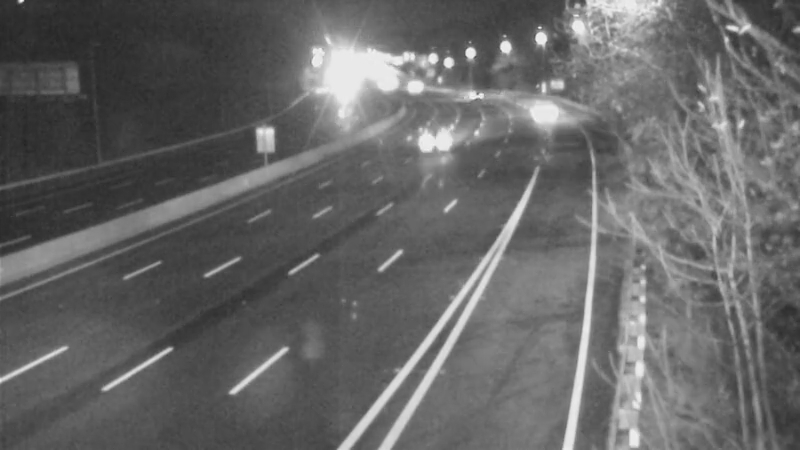vehicle: (388, 62, 438, 112), (449, 71, 499, 121), (515, 84, 565, 134), (408, 113, 458, 163)
